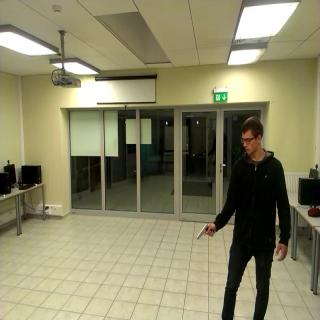gun: (193, 221, 213, 239)
